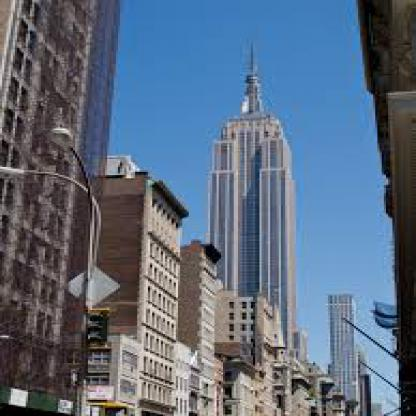Empire-State-building: (206, 37, 298, 293)
